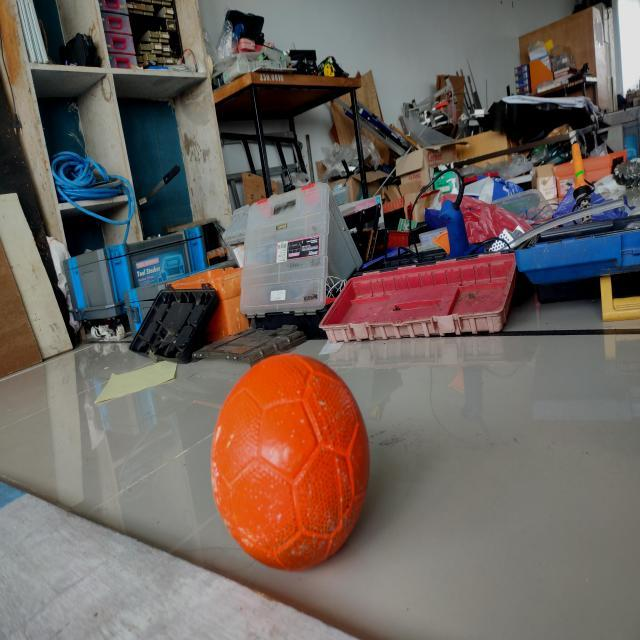bola: (202, 349, 378, 576)
